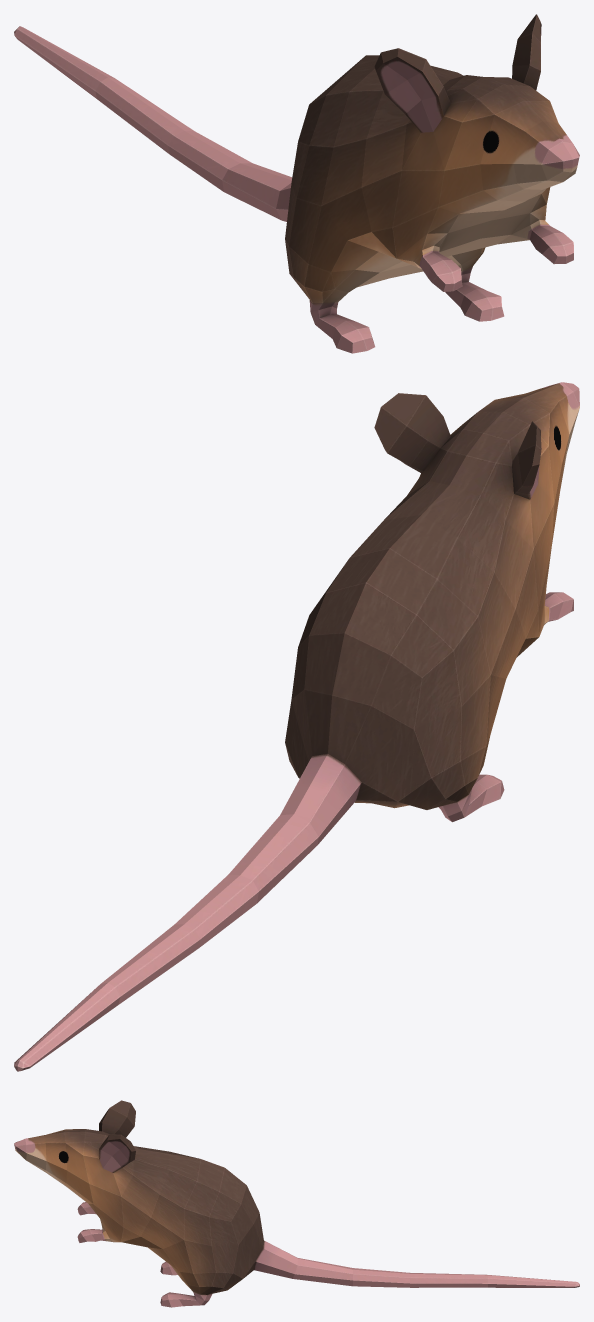
The model's file is mouse.glb.
3 renders of one model, top to bottom at view 1: azimuth 30°, elevation 25°; view 2: azimuth 150°, elevation 25°; view 3: azimuth 270°, elevation 25°, orthographic. The views are drawn at different scales.
Visible parts, largest first — view 1: CairoSpinyMouse_Mesh; view 2: CairoSpinyMouse_Mesh; view 3: CairoSpinyMouse_Mesh.
Part boxes in pixels (x1=…): CairoSpinyMouse_Mesh: x1=14, y1=14, x2=579, y2=353; CairoSpinyMouse_Mesh: x1=14, y1=382, x2=579, y2=1071; CairoSpinyMouse_Mesh: x1=14, y1=1100, x2=579, y2=1307.
Bounding box in the file's own units: 0.0443 × 0.08 × 0.2395.
Materials: 1 (1 with a texture image).
